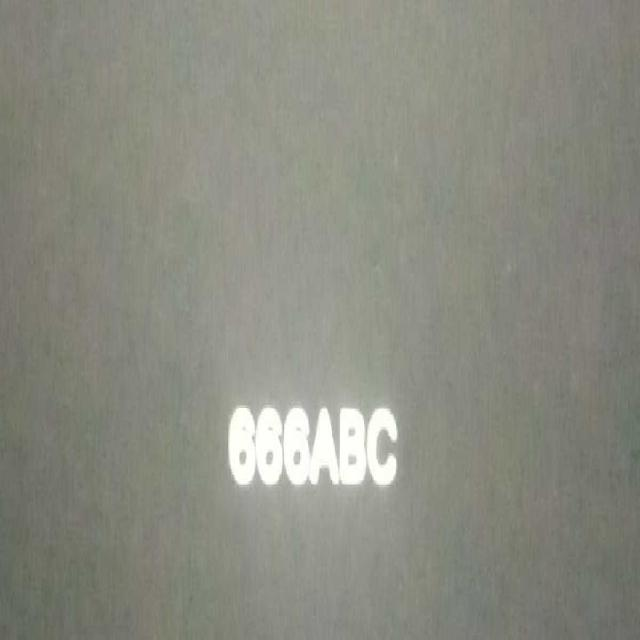license_plate: (223, 391, 411, 513)
